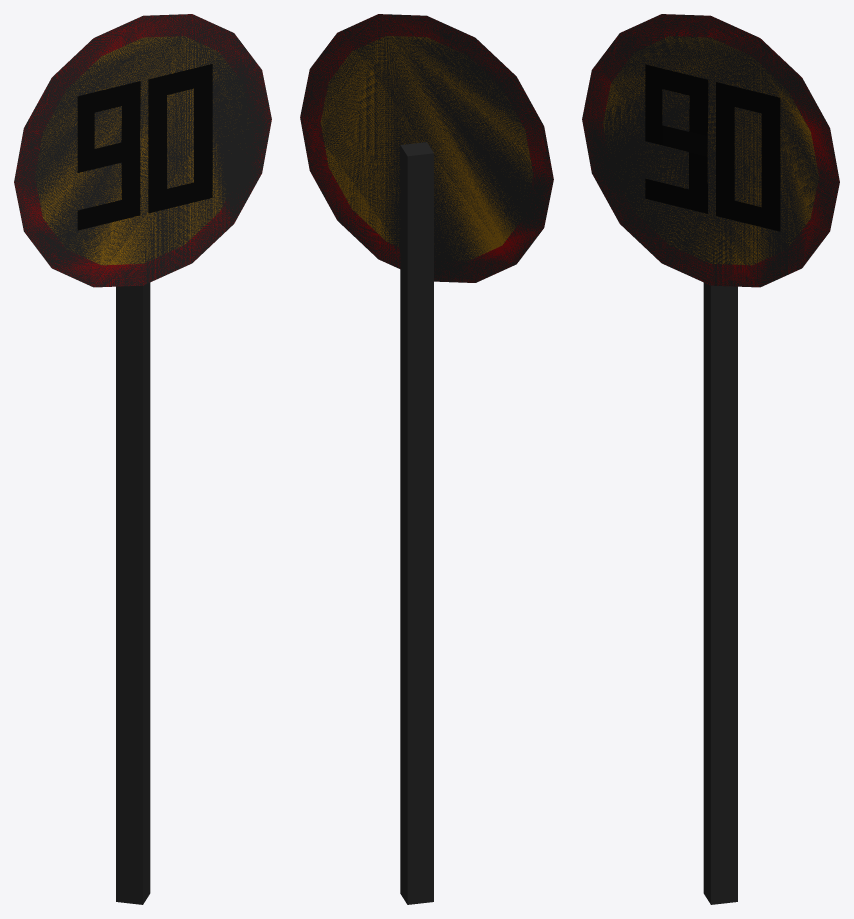
The model's file is 90kmh.obj.
The picture shows the model from 3 angles, left to right: view 1: azimuth 30°, elevation 25°; view 2: azimuth 150°, elevation 25°; view 3: azimuth 330°, elevation 25°; orthographic projection.
Parts seen in each view (by area): view 1: Cylinder.001; view 2: Cylinder.001; view 3: Cylinder.001.
Part boxes in pixels (<box>): Cylinder.001: <box>14,14,271,904</box>; Cylinder.001: <box>300,14,553,904</box>; Cylinder.001: <box>582,14,839,904</box>.
Bounding box in the file's own units: 0.8957 × 2.95 × 0.1207.
